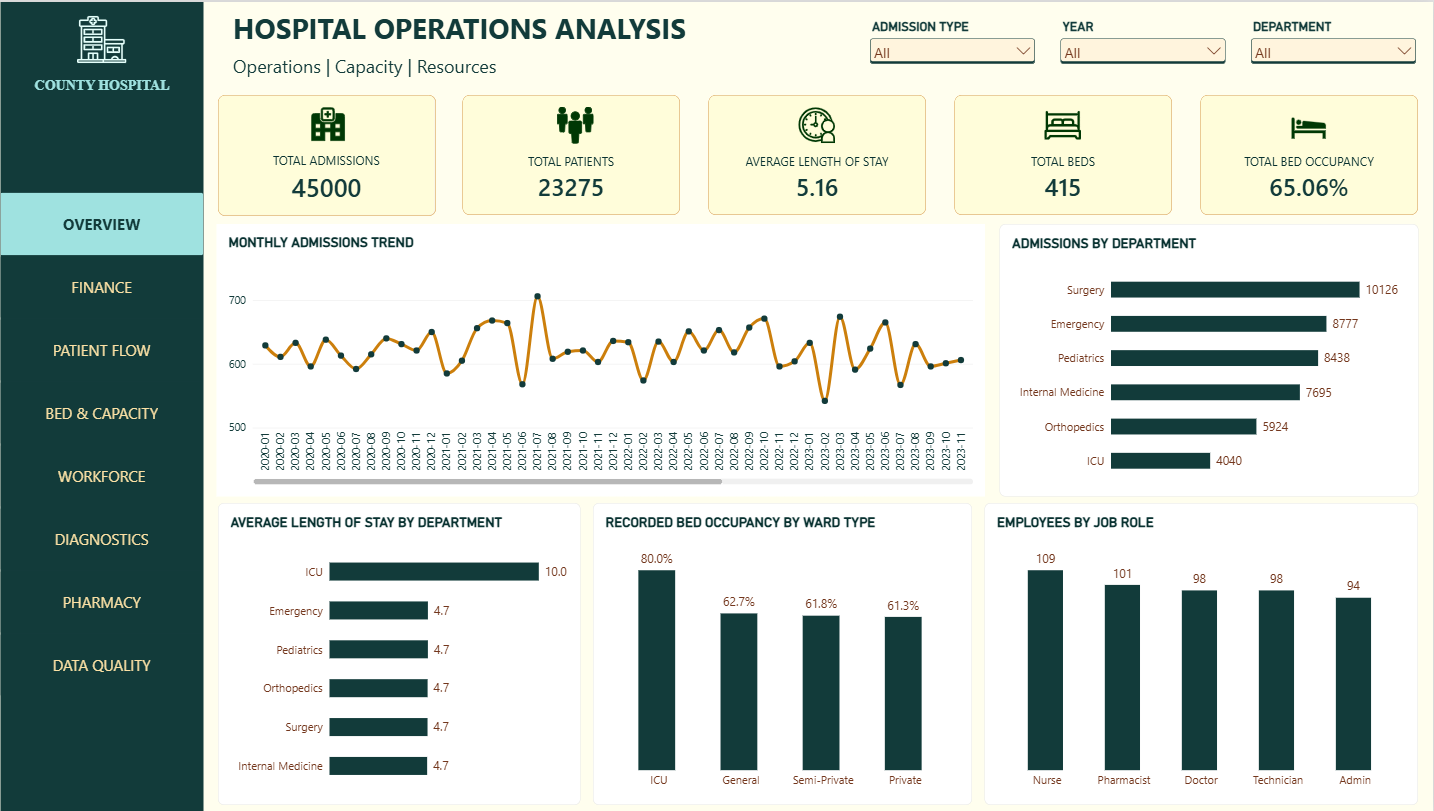

What the dashboard file says about the page in this screenshot:
{"tool":"powerbi","page":{"name":"OVERVIEW","canvas":[1920,1080],"ordinal":0},"visuals":[{"type":"shape","box":[9.8,0,270.8,1080.8],"z":0,"group":"g2"},{"type":"image","box":[112.3,0,65.9,100],"z":0,"group":"g1"},{"type":"textbox","box":[280.6,0,727.1,124.4],"z":0},{"type":"textbox","box":[9.8,100,270.8,63.4],"z":1000,"group":"g1"},{"type":"cardVisual","fields":{"Data":["hospital_operations_analysis patient_clean_view.TOTAL PATIENTS"]},"box":[625.8,124.4,290,160],"z":1000},{"type":"pageNavigator","box":[9.8,253.7,270.8,673.4],"z":1000,"group":"g2"},{"type":"group","id":"g1","title":"Group 1","box":[9.8,0,270.8,163.5],"z":2000,"group":"g2"},{"type":"cardVisual","fields":{"Data":["hospital_operations_analysis admission_clean_view.TOTAL BED OCCUPANCY"]},"box":[1610.3,124.4,290,160],"z":2000},{"type":"cardVisual","fields":{"Data":["hospital_operations_analysis admission_clean_view.Average Length of Stay"]},"box":[954,124.4,290,160],"z":3000},{"type":"cardVisual","fields":{"Data":["DateTable.TOTAL BEDS"]},"box":[1282.1,124.4,290,160],"z":4000},{"type":"lineChart","title":"MONTHLY ADMISSIONS TREND","fields":{"Category":["DateTable.Year Month"],"Y":["hospital_operations_analysis admission_clean_view.TOTAL ADMISSIONS"]},"box":[297.7,295.2,1024.7,363.5],"z":5000},{"type":"clusteredBarChart","title":"ADMISSIONS BY DEPARTMENT","fields":{"Category":["hospital_operations_analysis department.department_name"],"Y":["hospital_operations_analysis admission_clean_view.TOTAL ADMISSIONS"]},"box":[1341.9,295.2,558.7,363.5],"z":6000},{"type":"clusteredBarChart","title":"AVERAGE LENGTH OF STAY BY DEPARTMENT","fields":{"Category":["hospital_operations_analysis department.department_name"],"Y":["hospital_operations_analysis admission_clean_view.AVERAGE LENGTH OF STAY"]},"box":[300.1,668.5,483.1,402.6],"z":7000},{"type":"clusteredColumnChart","title":"RECORDED BED OCCUPANCY BY WARD TYPE","fields":{"Category":["hospital_operations_analysis ward.ward_type"],"Y":["hospital_operations_analysis admission_clean_view.TOTAL BED OCCUPANCY"]},"box":[800.3,668.5,505,402.6],"z":8000},{"type":"clusteredColumnChart","title":"EMPLOYEES BY JOB ROLE","fields":{"Category":["hospital_operations_analysis employee_clean_view.role"],"Y":["hospital_operations_analysis employee_clean_view.TOTAL EMPLOYEES"]},"box":[1322.4,668.5,578.2,402.6],"z":9000},{"type":"cardVisual","fields":{"Data":["hospital_operations_analysis admission_clean_view.TOTAL ADMISSIONS"]},"box":[300.1,124.4,290.3,161],"z":10000},{"type":"image","box":[751.5,139.1,48.8,48.8],"z":11000},{"type":"image","box":[422.1,139.1,48.8,48.8],"z":12000},{"type":"image","box":[1729.8,139.1,48.8,48.8],"z":13000},{"type":"image","box":[1402.9,139.1,48.8,48.8],"z":14000},{"type":"image","box":[1073.5,139.1,48.8,48.8],"z":15000},{"type":"group","id":"g2","title":"Group 2","box":[9.8,0,270.8,1080.8],"z":16000},{"type":"slicer","fields":{"Values":["hospital_operations_analysis admission_clean_view.admission_type"]},"box":[1163.8,22,230,78.1],"z":17000},{"type":"slicer","fields":{"Values":["DateTable.Year"]},"box":[1417.5,22,230,78.1],"z":18000},{"type":"slicer","fields":{"Values":["hospital_operations_analysis department.department_type"]},"box":[1671.3,22,230,78.1],"z":19000}]}

Visuals, with their boxes in screenshot pixels (x1, y1, x2, y2), scaled from the page's 1920x1080 canvas onto the 1434x811 screenshot:
shape: box=[7, 0, 210, 810]
image: box=[84, 0, 133, 75]
textbox: box=[210, 0, 753, 93]
textbox: box=[7, 75, 210, 123]
cardVisual - hospital_operations_analysis patient_clean_view.TOTAL PATIENTS: box=[467, 93, 684, 214]
pageNavigator: box=[7, 191, 210, 696]
"Group 1" group: box=[7, 0, 210, 123]
cardVisual - hospital_operations_analysis admission_clean_view.TOTAL BED OCCUPANCY: box=[1203, 93, 1419, 214]
cardVisual - hospital_operations_analysis admission_clean_view.Average Length of Stay: box=[713, 93, 929, 214]
cardVisual - DateTable.TOTAL BEDS: box=[958, 93, 1174, 214]
"MONTHLY ADMISSIONS TREND" lineChart: box=[222, 222, 988, 495]
"ADMISSIONS BY DEPARTMENT" clusteredBarChart: box=[1002, 222, 1420, 495]
"AVERAGE LENGTH OF STAY BY DEPARTMENT" clusteredBarChart: box=[224, 502, 585, 804]
"RECORDED BED OCCUPANCY BY WARD TYPE" clusteredColumnChart: box=[598, 502, 975, 804]
"EMPLOYEES BY JOB ROLE" clusteredColumnChart: box=[988, 502, 1420, 804]
cardVisual - hospital_operations_analysis admission_clean_view.TOTAL ADMISSIONS: box=[224, 93, 441, 214]
image: box=[561, 104, 598, 141]
image: box=[315, 104, 352, 141]
image: box=[1292, 104, 1328, 141]
image: box=[1048, 104, 1084, 141]
image: box=[802, 104, 838, 141]
"Group 2" group: box=[7, 0, 210, 810]
slicer - hospital_operations_analysis admission_clean_view.admission_type: box=[869, 17, 1041, 75]
slicer - DateTable.Year: box=[1059, 17, 1230, 75]
slicer - hospital_operations_analysis department.department_type: box=[1248, 17, 1420, 75]
